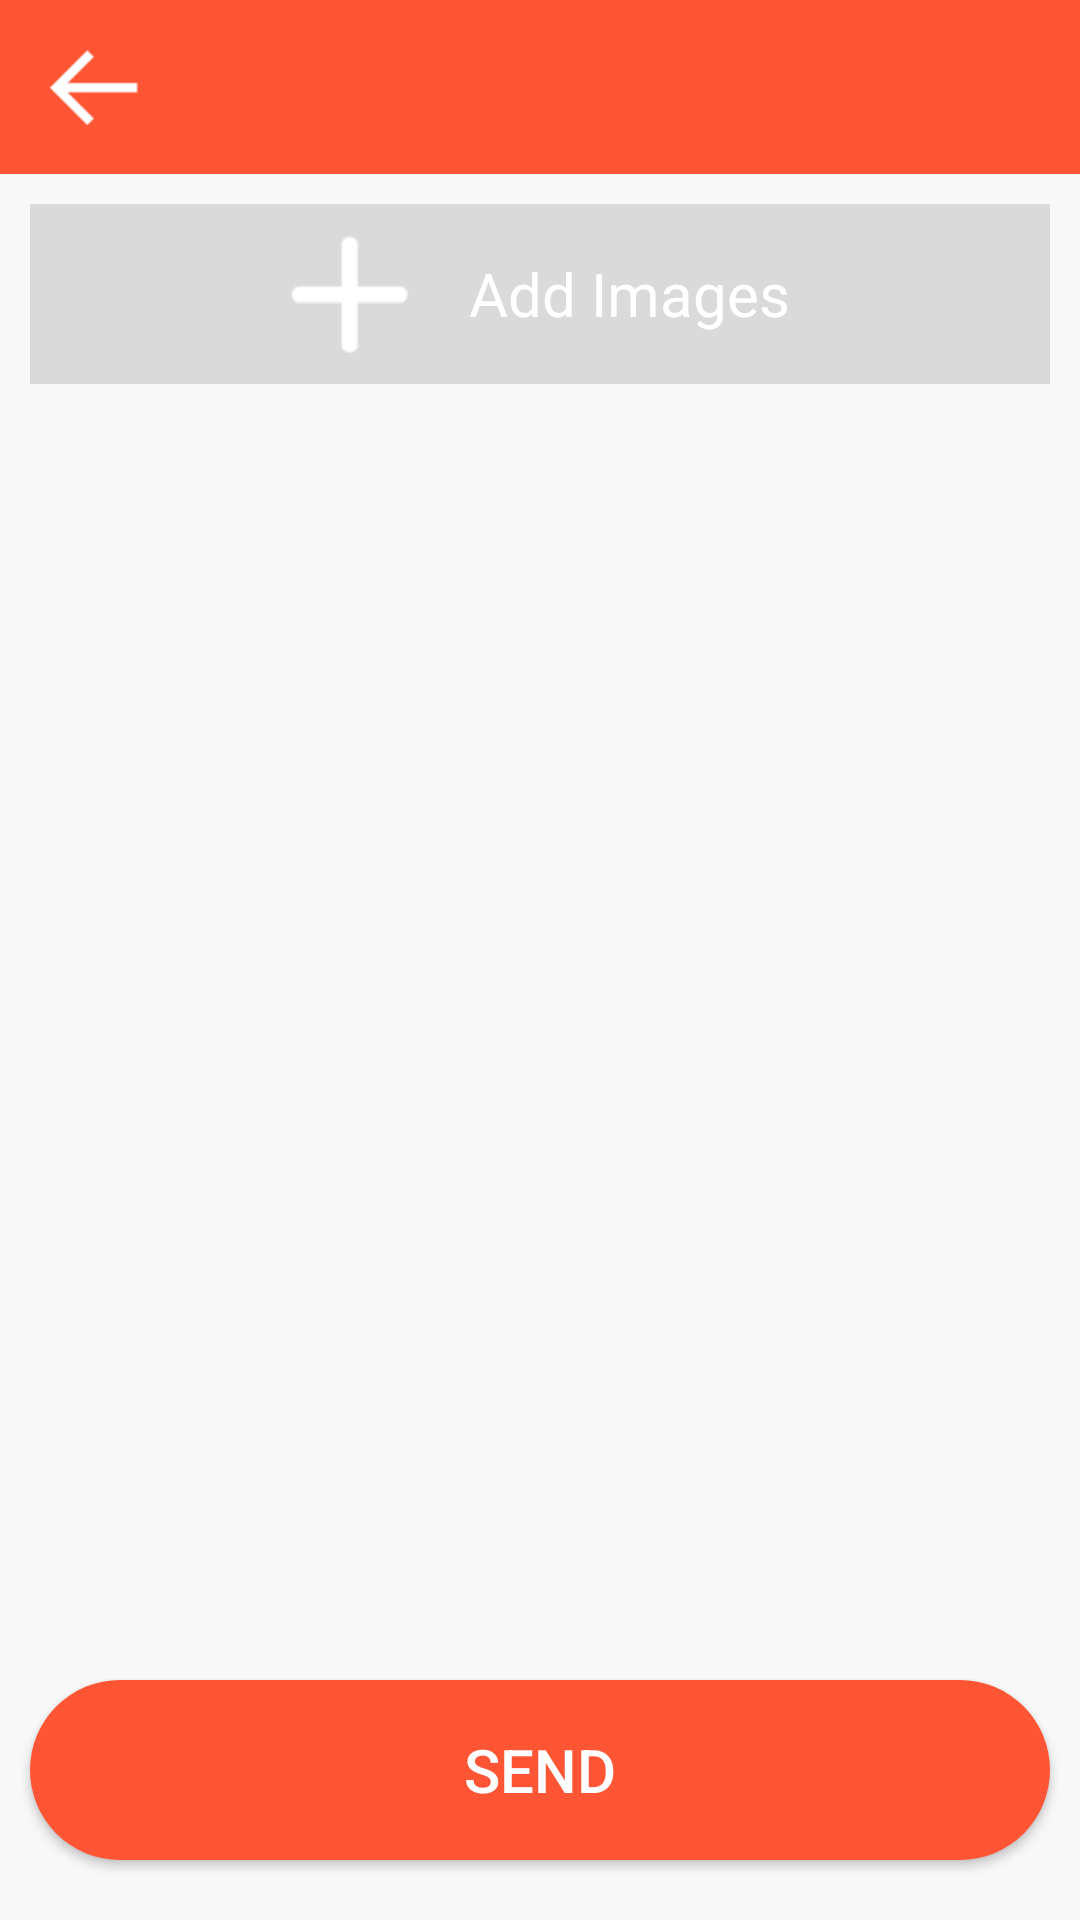

Locate icon controls on the screen. Image size 1080*1920, boxes as (x1, y1, x2, y2).
back: (49, 50, 138, 125)
